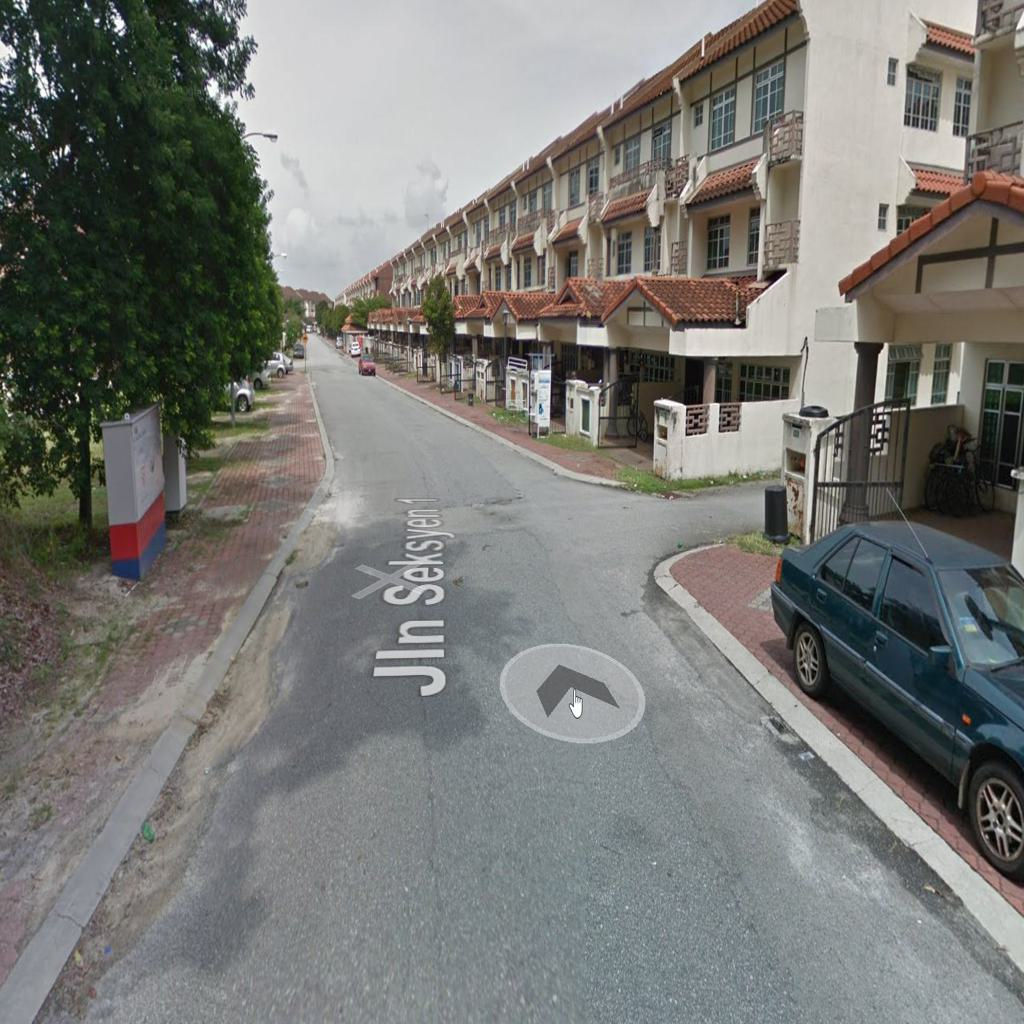Junction: (470, 448, 779, 580)
